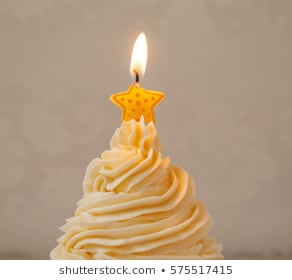Fire: (117, 21, 157, 86)
